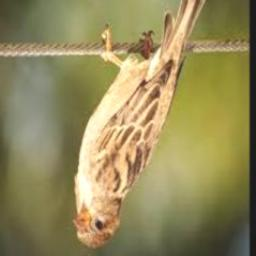Sparrow: (74, 0, 212, 249)
